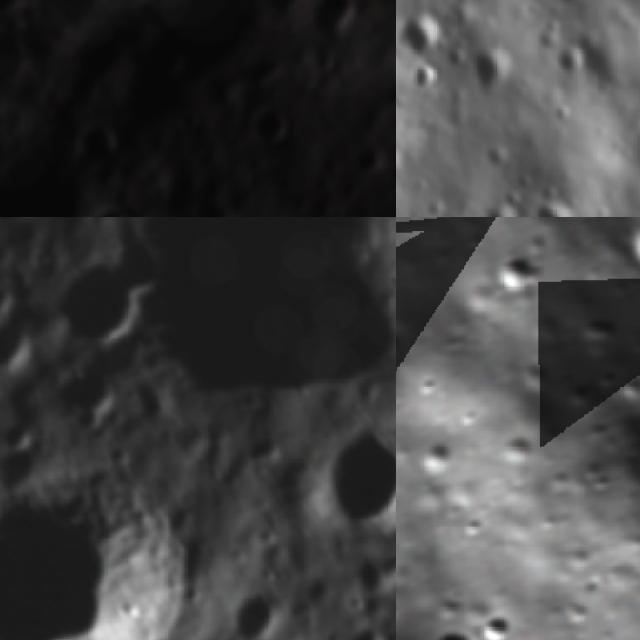crater: (97, 217, 396, 411), (0, 482, 196, 640), (118, 0, 301, 76), (326, 422, 396, 545), (49, 265, 145, 347), (480, 236, 551, 309), (110, 235, 169, 297), (96, 326, 162, 380), (466, 39, 524, 100), (59, 364, 124, 414), (396, 5, 455, 59), (231, 588, 291, 640), (0, 318, 43, 384), (240, 102, 296, 152), (74, 114, 125, 166), (339, 137, 388, 191), (605, 217, 640, 287), (470, 599, 527, 640), (5, 449, 52, 493), (308, 0, 360, 35), (413, 615, 484, 640), (0, 23, 29, 84), (550, 38, 588, 82), (350, 557, 390, 597), (238, 433, 284, 465), (530, 190, 584, 217), (405, 54, 441, 93), (0, 419, 36, 454), (184, 195, 236, 217), (471, 197, 522, 217), (0, 274, 16, 333), (345, 620, 386, 640), (91, 200, 137, 217), (219, 471, 244, 494), (396, 135, 407, 178), (53, 217, 99, 226), (385, 267, 396, 298)
